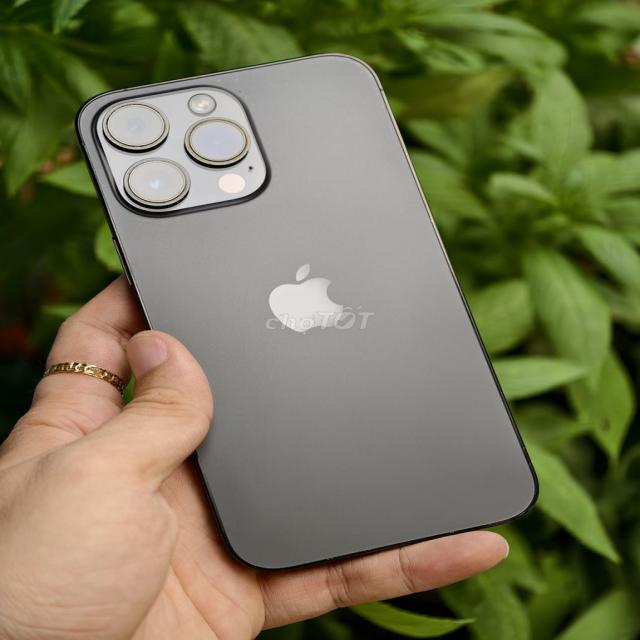gen_14: (80, 46, 545, 571)
